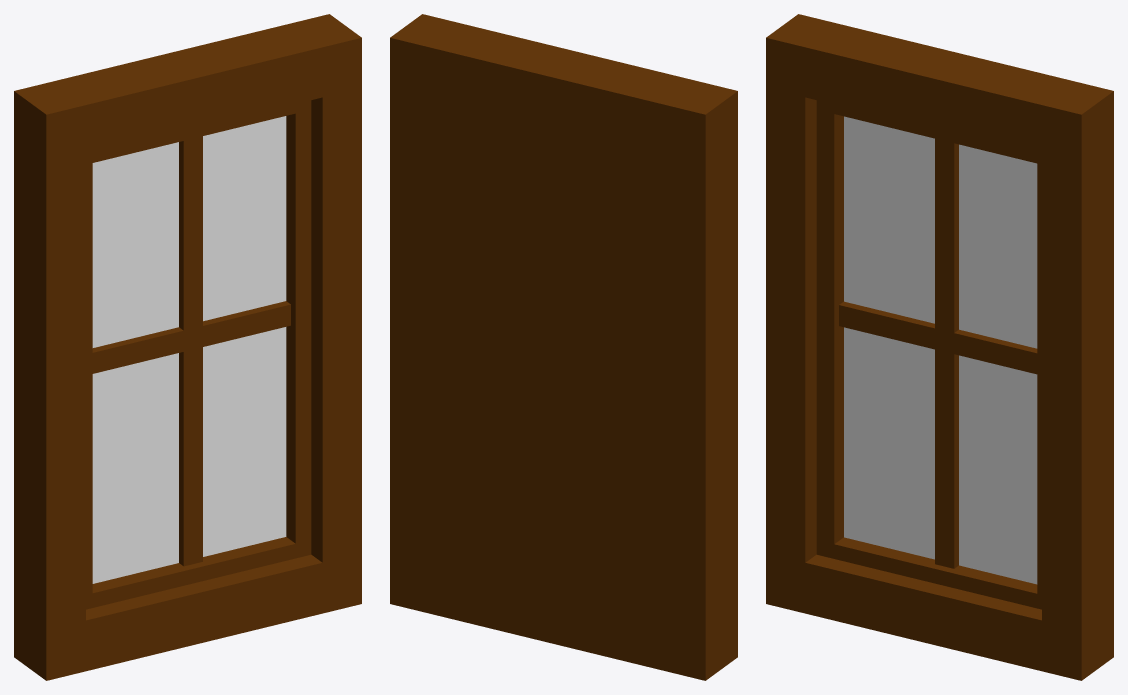
Rendered from ventana.FBX.
3 renders of one model, left to right at view 1: azimuth 30°, elevation 25°; view 2: azimuth 150°, elevation 25°; view 3: azimuth 330°, elevation 25°, orthographic.
Visible parts, largest first — view 1: Box016; view 2: Box016; view 3: Box016.
Part boxes in pixels (box(x1,y1,x2,y2)): Box016: box(14, 14, 361, 680); Box016: box(390, 14, 737, 680); Box016: box(766, 14, 1113, 680).
Bounding box in the file's own units: 164 × 281 × 29.23.
